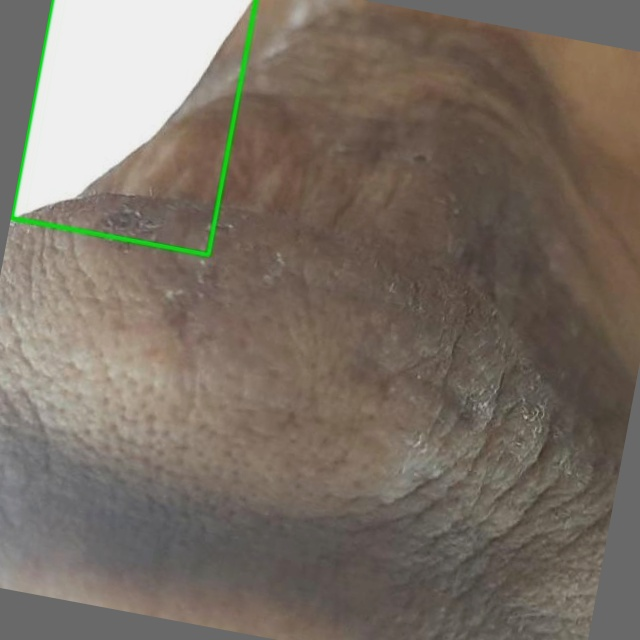Eczema: (11, 0, 257, 253)
